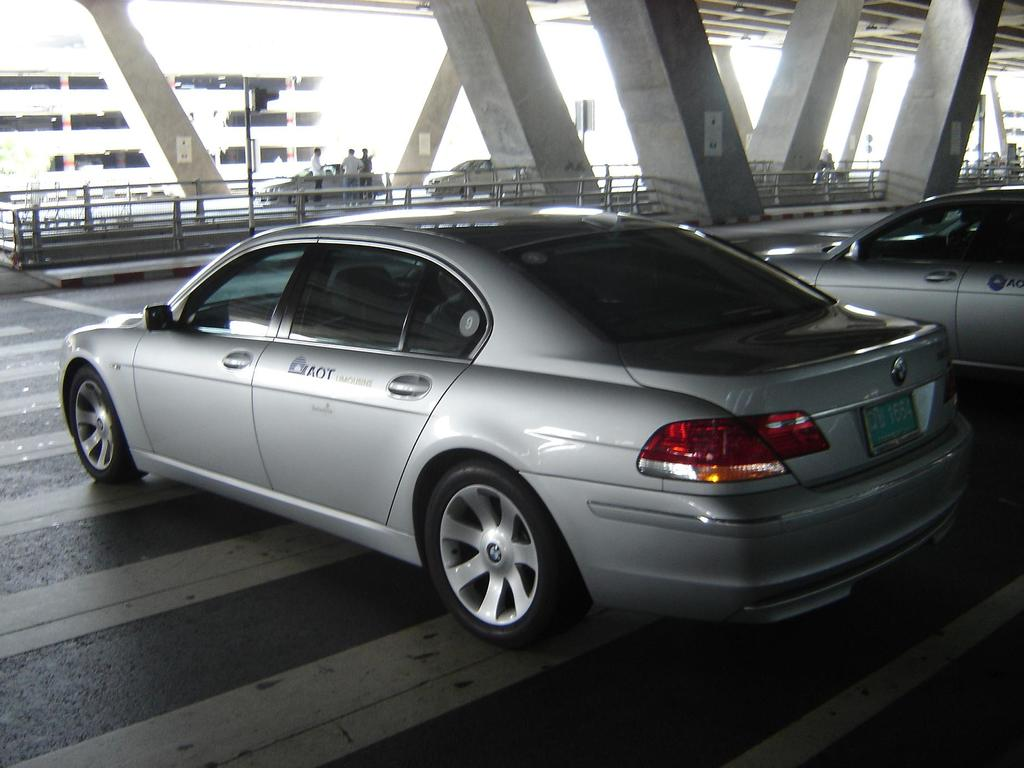Car: (40, 202, 978, 664), (768, 181, 1023, 397)
